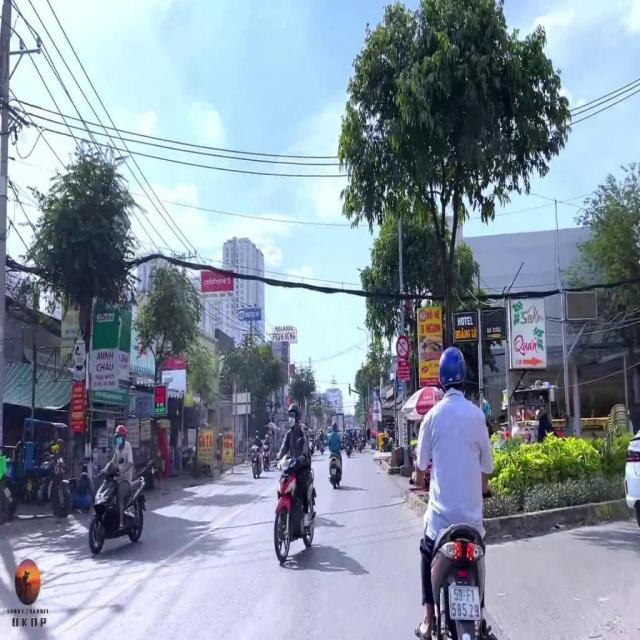cam_cac_loai_xe_3_banh: (396, 336, 411, 358), (369, 406, 373, 414)
